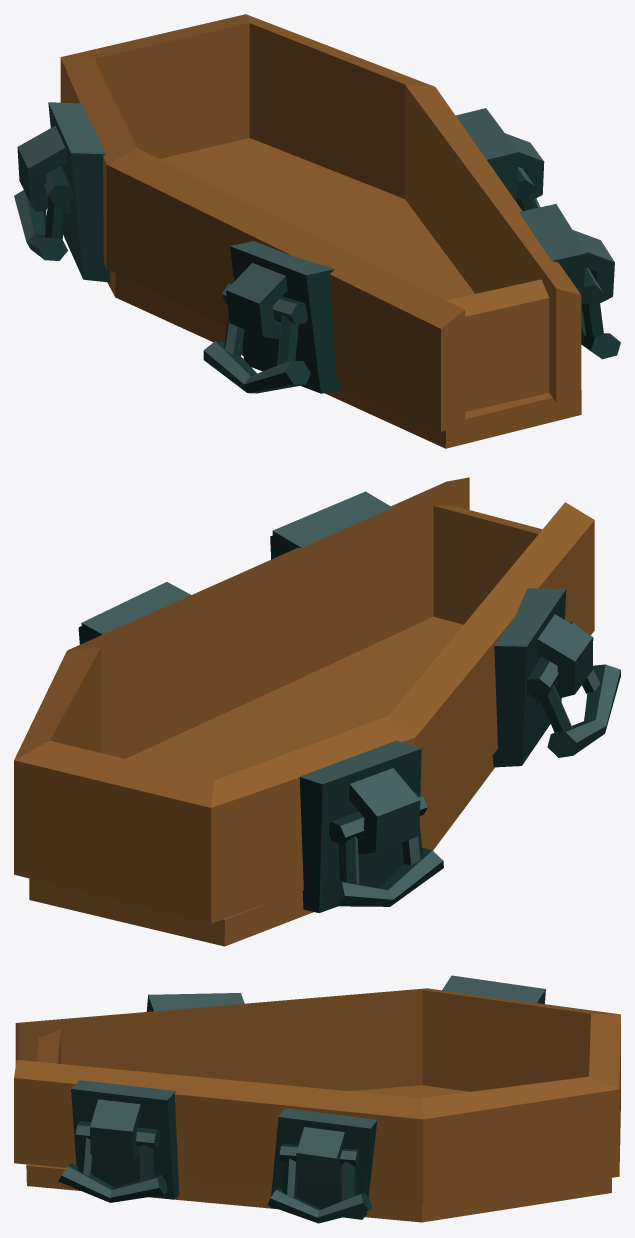
File: caixao_um.fbx
The picture shows the model from 3 angles, top to bottom: view 1: azimuth 30°, elevation 25°; view 2: azimuth 150°, elevation 25°; view 3: azimuth 270°, elevation 25°; orthographic projection. The views are drawn at different scales.
Visible parts, largest first — view 1: caixao_um; view 2: caixao_um; view 3: caixao_um.
Part boxes in pixels (box(x1,y1,x2,y2)): caixao_um: box(14, 14, 620, 448); caixao_um: box(14, 477, 620, 946); caixao_um: box(14, 975, 620, 1223).
Bounding box in the file's own units: 226 × 71.46 × 338.
